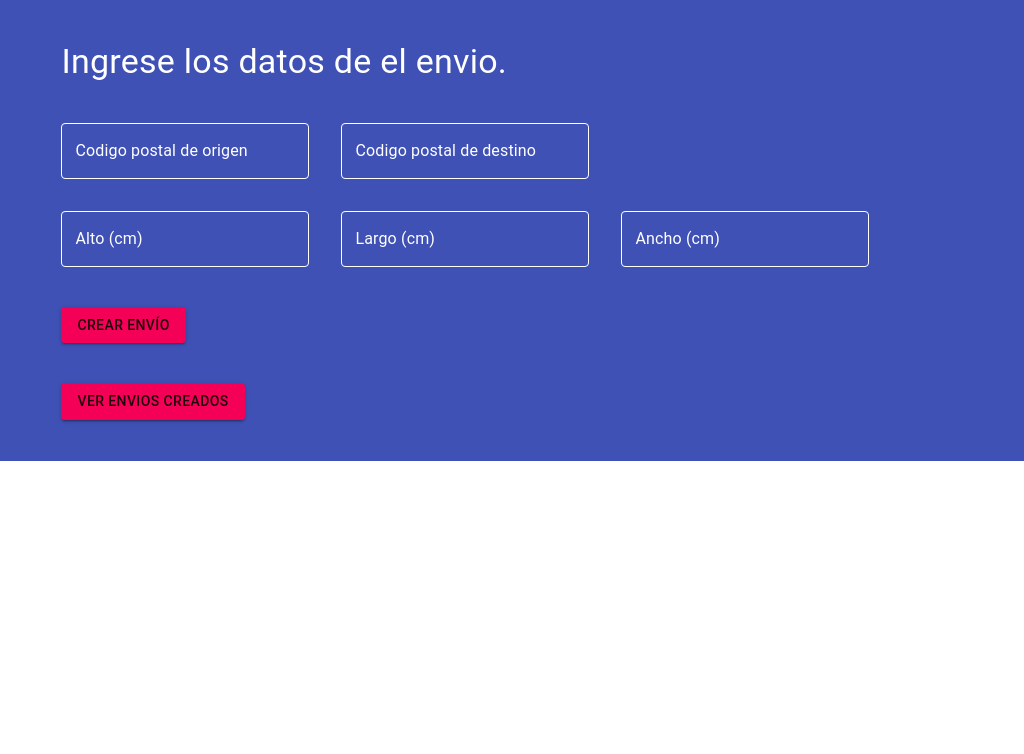
Test: Submit new shipment & select service
This screenshot has width=1024, height=754.
Type "02900" into the field next to "Codigo postal de origen". click: [185, 151]
box: [61,123,309,179]
Type "44100" into the field next to "Codigo postal de destino". click: [465, 151]
box: [341,123,589,179]
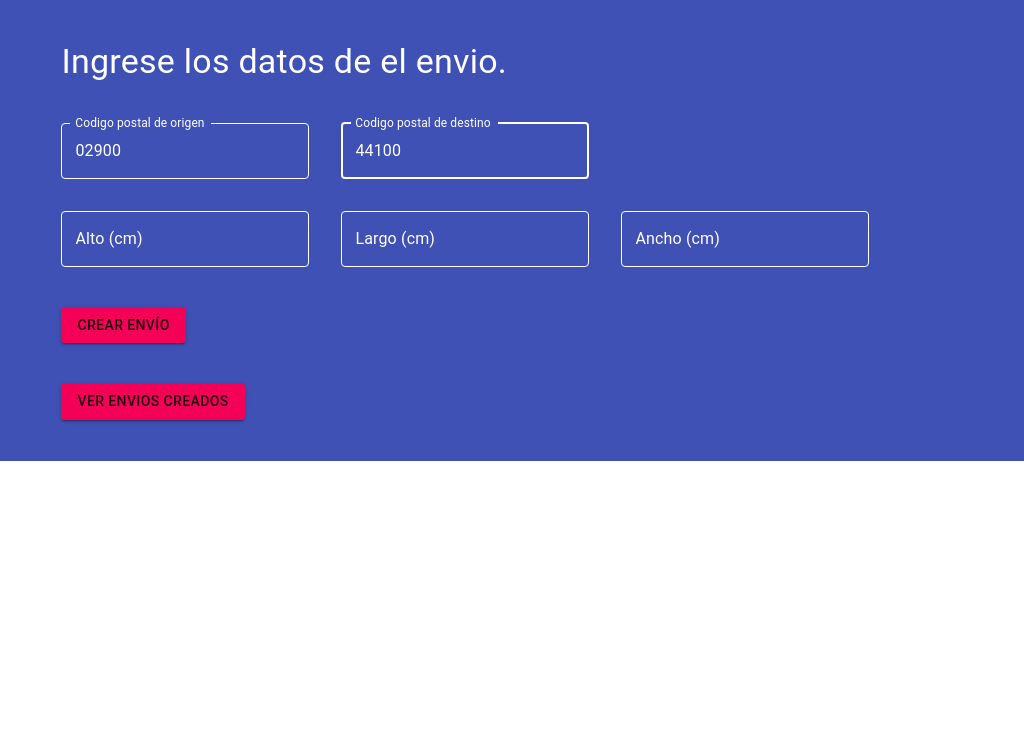
Type "10" into the number field next to "Alto (cm)". click: [185, 239]
box: [61,211,309,267]
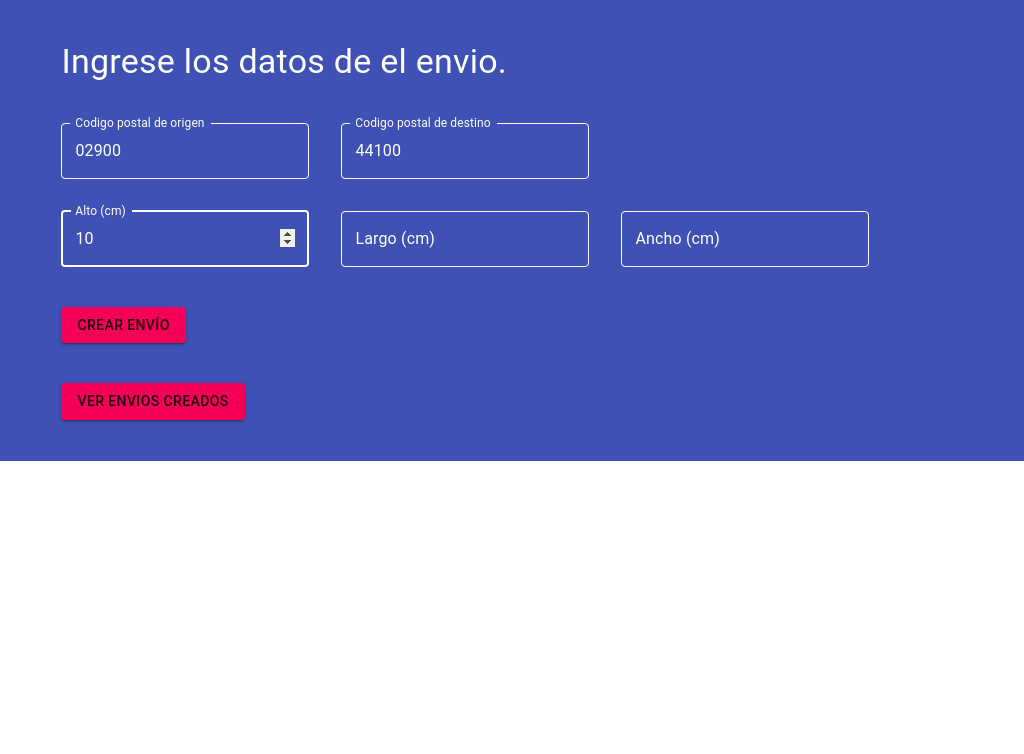
Type "10" into the number field next to "Largo (cm)". click: [465, 239]
box: [341,211,589,267]
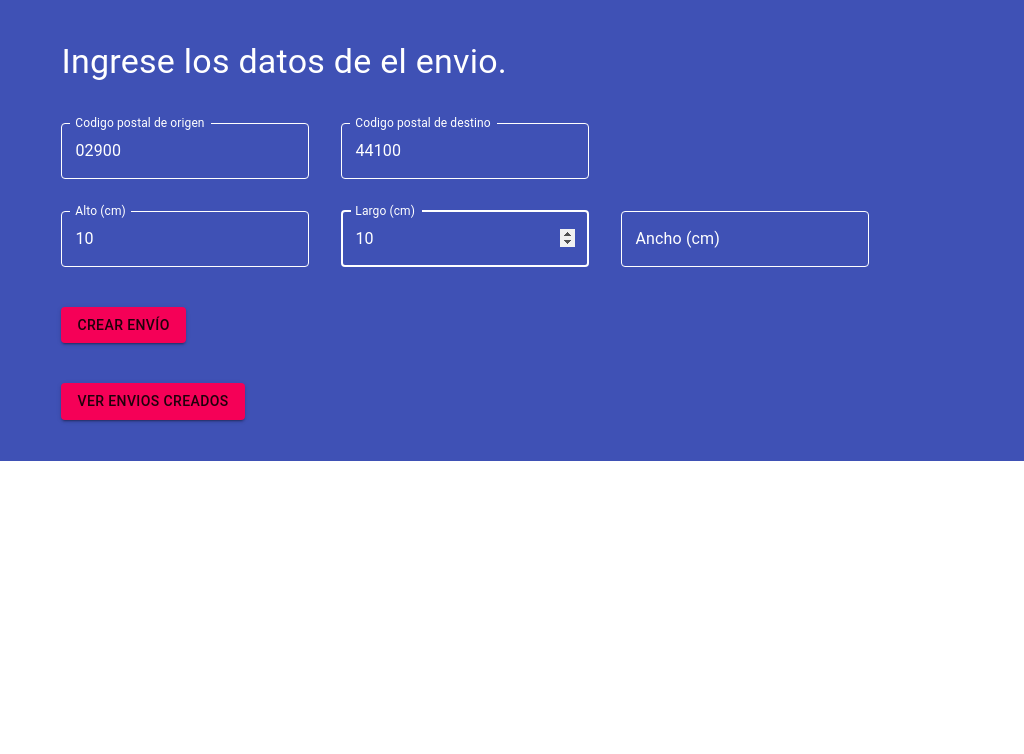
Type "10" into the number field next to "Ancho (cm)". click: [745, 239]
box: [621,211,869,267]
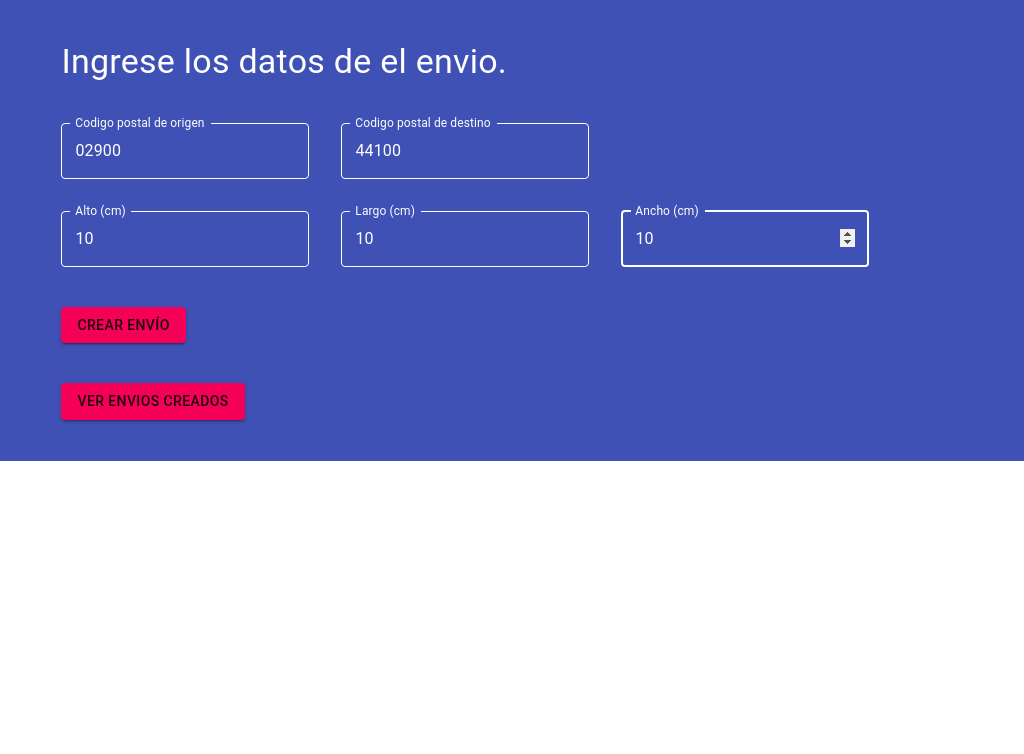
Click the button "Crear envío". click: [124, 325]
box: [61,307,186,343]
(page scrolled)
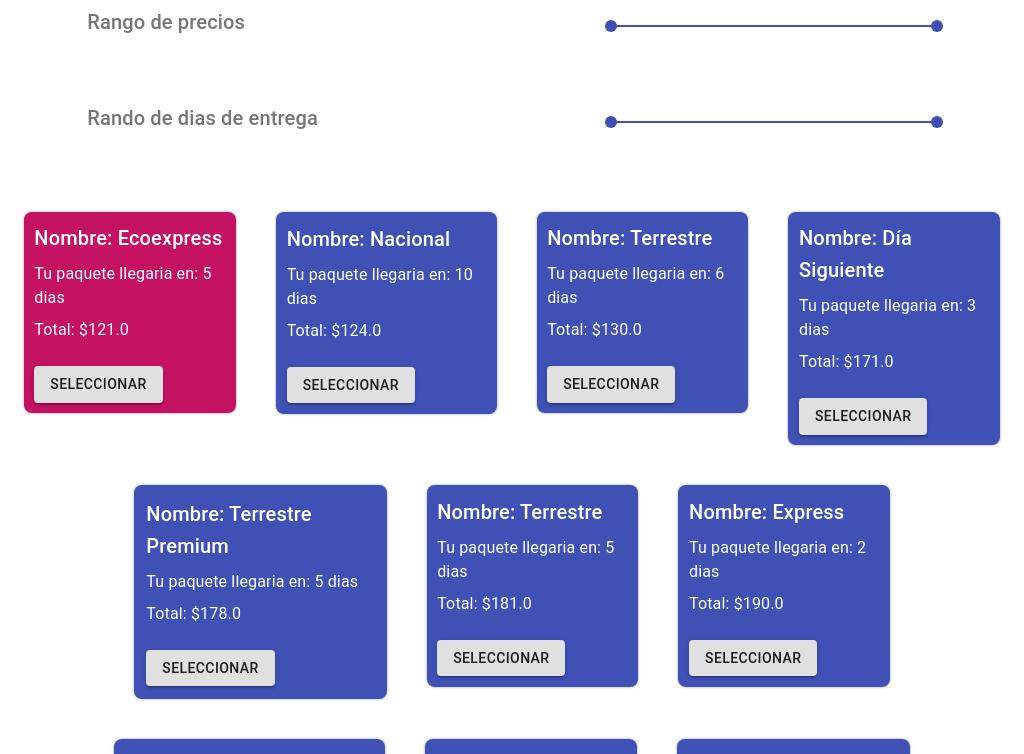
Click the button "Seleccionar" below "121.0". click: [98, 384]
box: [34,366,163,403]
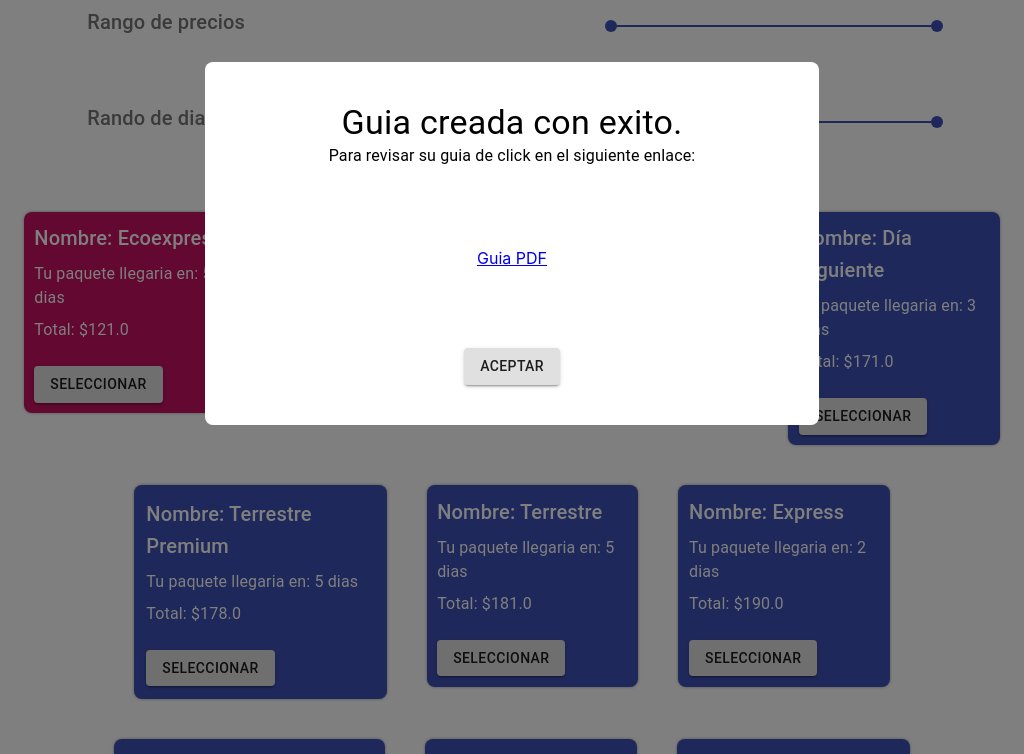
Now the heading "Guia creada con exito." is shown, box [342,102,682,142]
